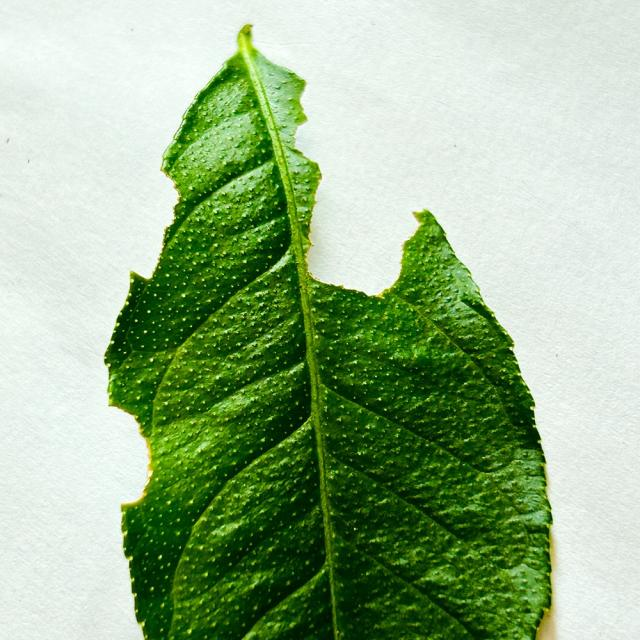Deficiency Leaf: (296, 83, 419, 294), (128, 169, 177, 278), (108, 406, 140, 511)
Lemon: (105, 30, 552, 639)
